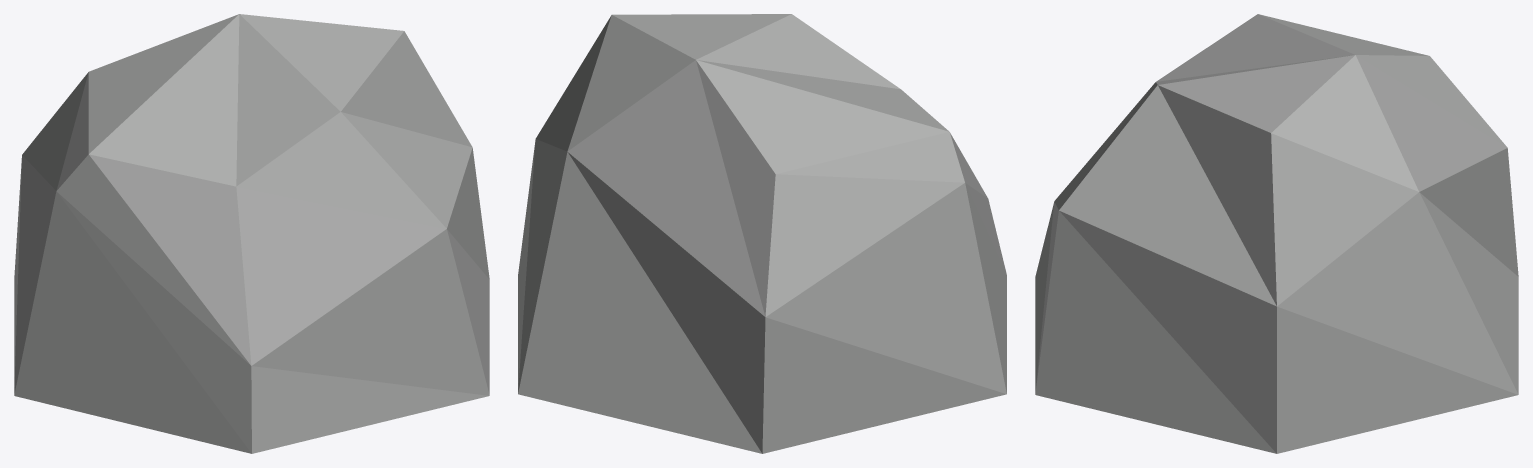
Rendered from Rock_Mid_1.fbx.
3 renders of one model, left to right at view 1: azimuth 30°, elevation 25°; view 2: azimuth 150°, elevation 25°; view 3: azimuth 270°, elevation 25°, orthographic. The views are drawn at different scales.
Parts seen in each view (by area): view 1: Rock_Mid_1; view 2: Rock_Mid_1; view 3: Rock_Mid_1.
Boxes of the visible parts, box(x1,y1,x2,y2) form: Rock_Mid_1: box(14, 14, 489, 453); Rock_Mid_1: box(518, 14, 1006, 453); Rock_Mid_1: box(1035, 14, 1518, 453).
Bounding box in the file's own units: 2 × 1.16 × 1.73.
